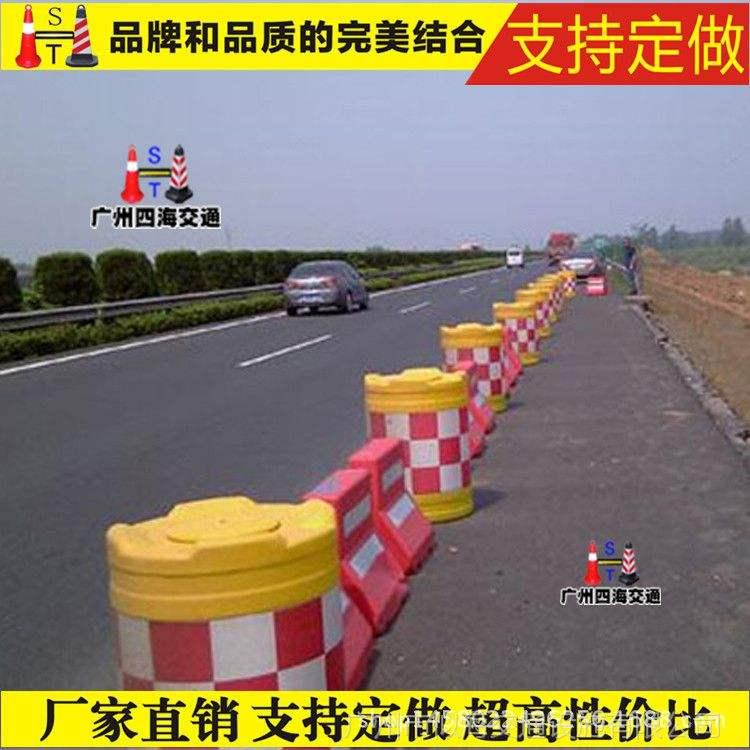sign: (103, 497, 351, 686), (346, 363, 487, 516)
